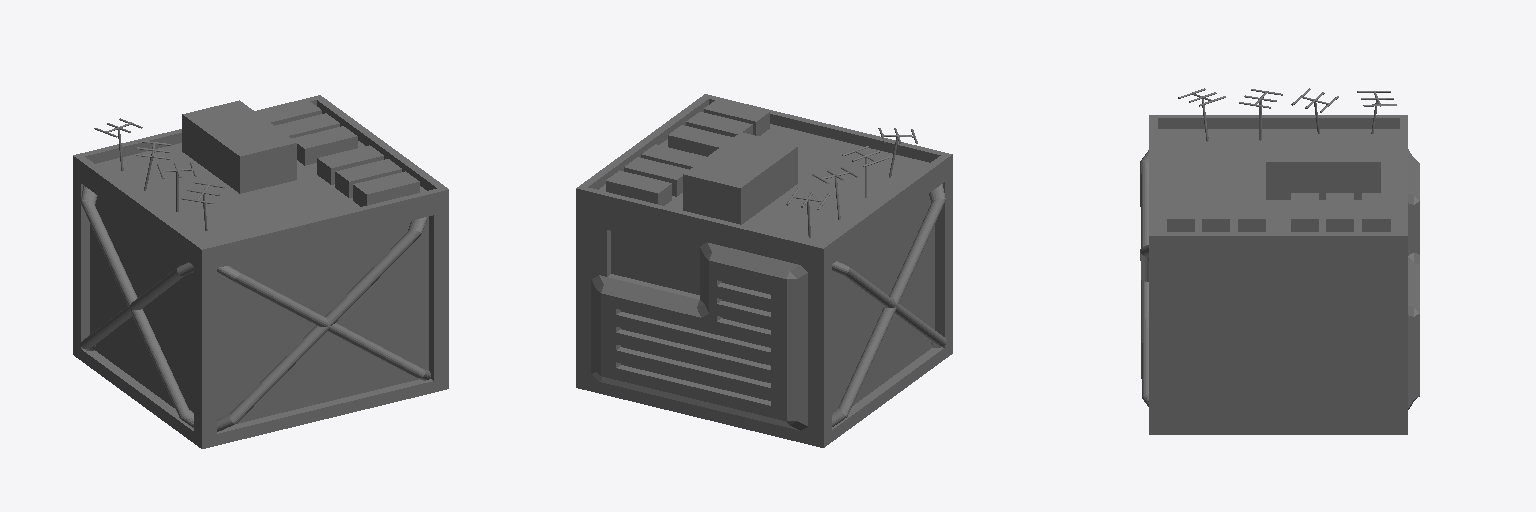
Rendered from UpdatedRoof.obj.
The picture shows the model from 3 angles: view 1: azimuth 30°, elevation 25°; view 2: azimuth 150°, elevation 25°; view 3: azimuth 270°, elevation 25°; orthographic projection.
Parts seen in each view (by area): view 1: polySurface389, polySurface385, polySurface387, polySurface388, polySurface217, polySurface219, polySurface209, polySurface218, polySurface216, polySurface213, polySurface210, polySurface211 (+4 smaller); view 2: polySurface389, polySurface387, polySurface388, polySurface217, polySurface242, polySurface210, polySurface214, polySurface209, polySurface211, polySurface213, polySurface239.001, polySurface215 (+2 smaller); view 3: polySurface389, polySurface388, polySurface217, polySurface218, polySurface239.001, polySurface214, polySurface211, polySurface212, polySurface213, polySurface215, polySurface216.
Boxes of the visible parts, x1,y1,x2,y2 form: polySurface389: [73, 95, 448, 448]; polySurface385: [217, 216, 428, 423]; polySurface387: [90, 196, 193, 412]; polySurface388: [96, 141, 426, 244]; polySurface217: [182, 100, 296, 193]; polySurface219: [217, 217, 427, 431]; polySurface209: [80, 186, 193, 427]; polySurface218: [217, 266, 430, 380]; polySurface216: [292, 126, 357, 165]; polySurface213: [353, 171, 419, 206]; polySurface210: [80, 262, 193, 350]; polySurface211: [317, 145, 383, 184]; polySurface389: [576, 94, 952, 447]; polySurface387: [832, 194, 934, 411]; polySurface388: [599, 124, 929, 243]; polySurface217: [683, 132, 797, 224]; polySurface242: [611, 231, 699, 294]; polySurface210: [832, 184, 945, 426]; polySurface214: [606, 170, 671, 205]; polySurface209: [832, 261, 946, 347]; polySurface211: [668, 125, 733, 156]; polySurface213: [704, 99, 769, 135]; polySurface239.001: [786, 128, 917, 237]; polySurface215: [624, 157, 688, 196]; polySurface389: [1149, 115, 1419, 434]; polySurface388: [1158, 129, 1399, 231]; polySurface217: [1266, 134, 1380, 199]; polySurface218: [1140, 150, 1148, 406]; polySurface239.001: [1178, 88, 1396, 141]; polySurface214: [1362, 193, 1390, 231]; polySurface211: [1238, 193, 1265, 231]; polySurface212: [1202, 193, 1229, 231]; polySurface213: [1167, 193, 1194, 231]; polySurface215: [1326, 193, 1353, 231]; polySurface216: [1291, 193, 1318, 231].
Bounding box in the file's own units: 2.24 × 1.95 × 2.12.